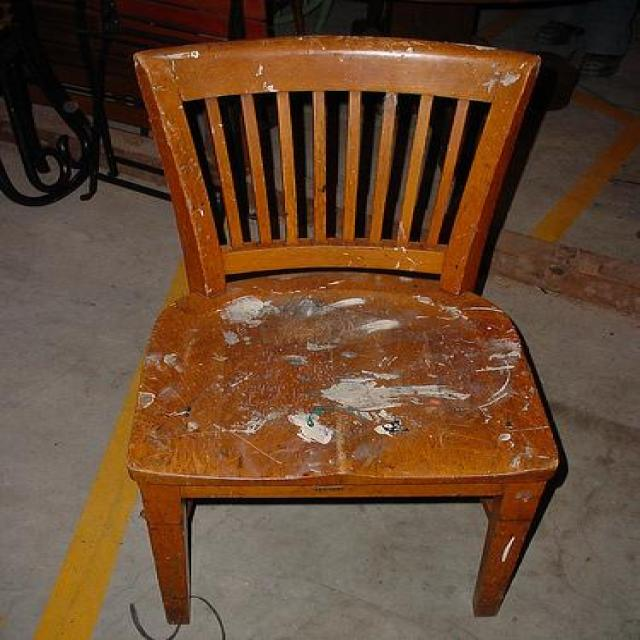chair: (123, 36, 567, 624)
